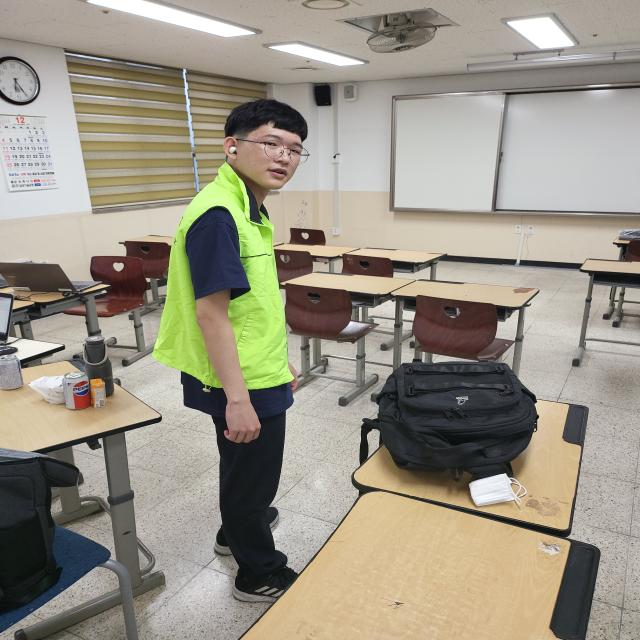weston_spy: (125, 154, 324, 409)
